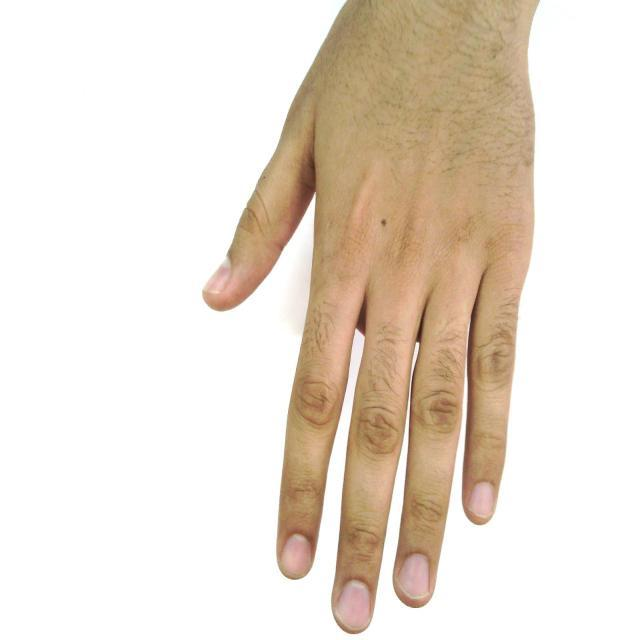Fingernail: (337, 582, 370, 630), (399, 554, 430, 598), (281, 535, 311, 576), (470, 482, 494, 518), (204, 260, 230, 292)
